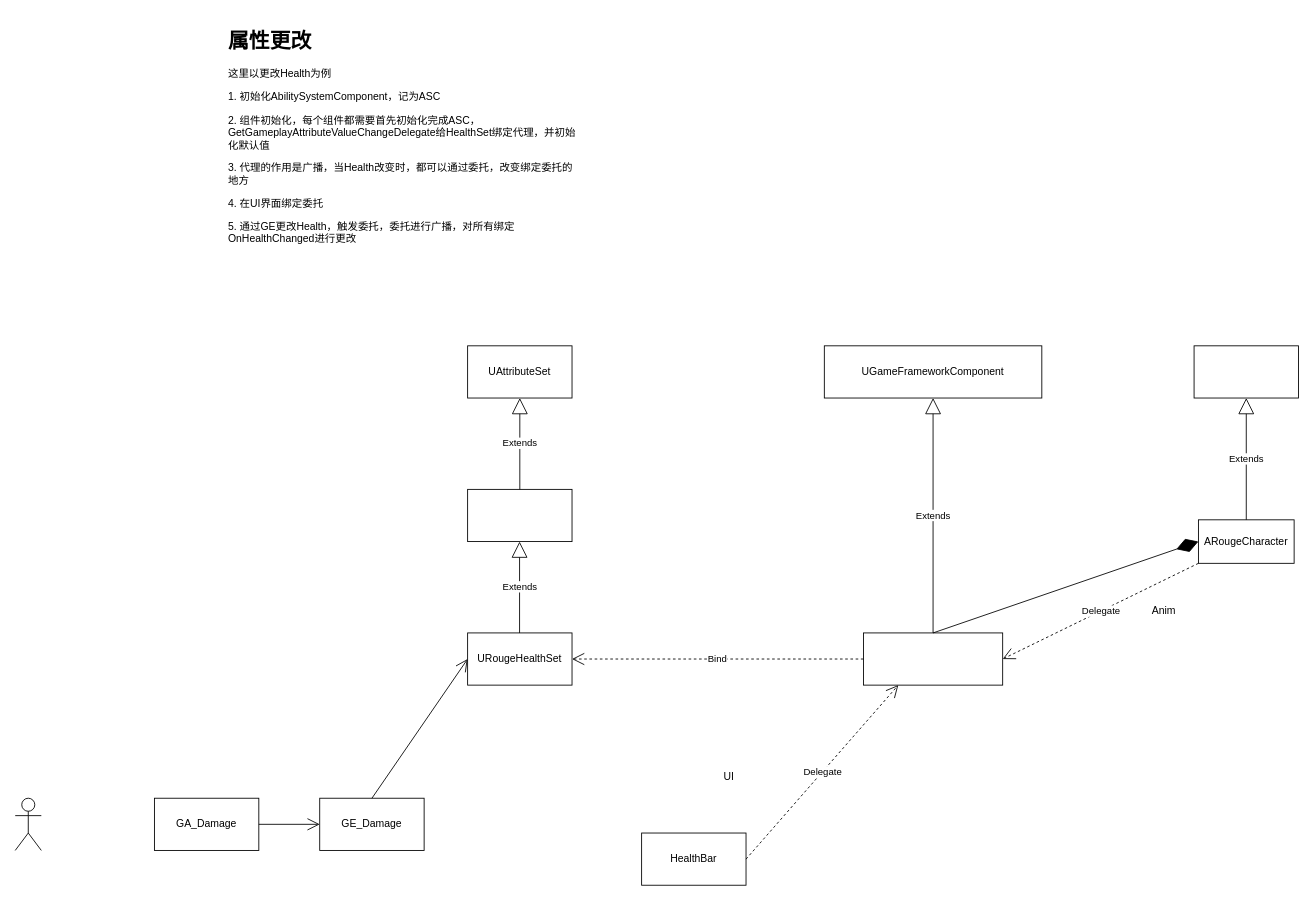
The diagram is 1314 pixels wide and 900 high, and some of its shapes have lost their labels. The shapes that lost their labels are listed below. From the top down, each one's centre as x and y in pixels, then its label:
At point (1245, 371): "Character".
At point (519, 515): "URougeAttributeSet".
At point (933, 658): "URougeHealthComponent".
At point (27, 823): "Actor".
